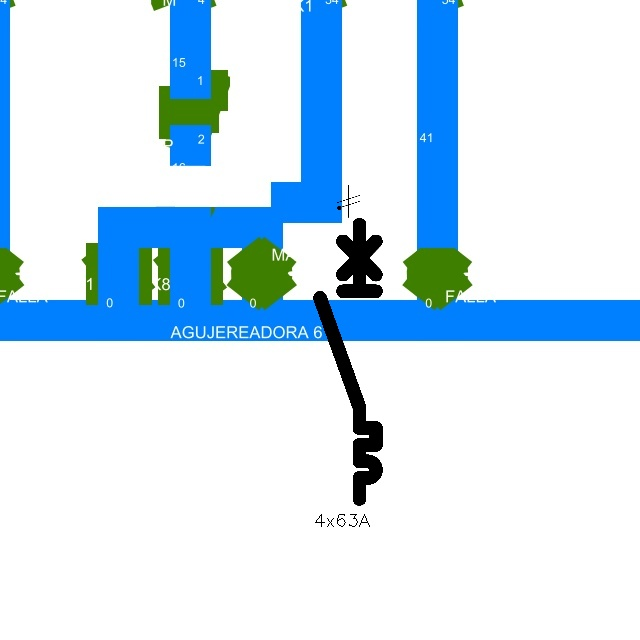interruptor_termomagnetico: (313, 217, 383, 505)
